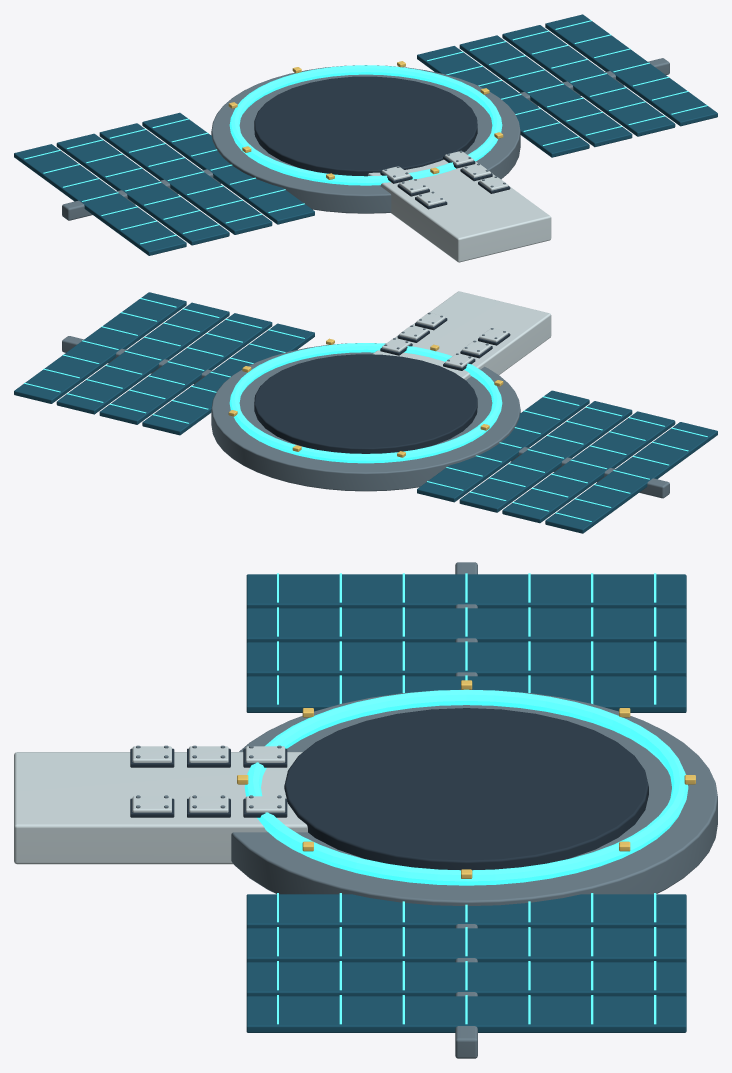
Rendered from OrbitalDock.fbx.
3 views of the same model, one above another, from view 1: azimuth 30°, elevation 25°; view 2: azimuth 150°, elevation 25°; view 3: azimuth 270°, elevation 25° (orthographic). The views are drawn at different scales.
Visible parts, largest first — view 1: Dock negative space, Docking collar, Access bridge, Solar panel.002, Solar panel.005, Solar panel.006, Solar panel.001, Solar panel.003, Solar panel.007, Dock approach ring, Solar panel, Solar panel.004 (+2 smaller); view 2: Dock negative space, Docking collar, Access bridge, Solar panel.005, Solar panel.001, Solar panel.003, Solar panel.006, Solar panel.002, Solar panel.007, Dock approach ring, Solar panel, Solar panel.004 (+2 smaller); view 3: Dock negative space, Access bridge, Docking collar, Solar panel.007, Dock approach ring, Solar panel.001, Solar panel.002, Solar panel.003, Solar panel.005, Solar panel.006, Solar panel.004, Solar panel (+1 smaller).
Boxes of the visible parts, bbox=[...] form: Dock negative space: bbox=[254, 76, 477, 176]; Docking collar: bbox=[211, 65, 520, 213]; Access bridge: bbox=[368, 159, 551, 262]; Solar panel.002: bbox=[56, 133, 229, 245]; Solar panel.005: bbox=[459, 35, 632, 147]; Solar panel.006: bbox=[502, 25, 675, 136]; Solar panel.001: bbox=[99, 123, 272, 234]; Solar panel.003: bbox=[14, 144, 186, 255]; Solar panel.007: bbox=[545, 14, 717, 126]; Dock approach ring: bbox=[229, 65, 502, 185]; Solar panel: bbox=[142, 112, 314, 224]; Solar panel.004: bbox=[417, 46, 589, 157]; Dock negative space: bbox=[254, 354, 477, 453]; Docking collar: bbox=[211, 343, 520, 491]; Access bridge: bbox=[372, 291, 551, 380]; Solar panel.005: bbox=[99, 313, 272, 424]; Solar panel.001: bbox=[459, 401, 632, 512]; Solar panel.003: bbox=[545, 422, 717, 533]; Solar panel.006: bbox=[56, 302, 229, 414]; Solar panel.002: bbox=[502, 411, 675, 523]; Solar panel.007: bbox=[14, 292, 186, 403]; Dock approach ring: bbox=[229, 343, 502, 463]; Solar panel: bbox=[417, 390, 589, 502]; Solar panel.004: bbox=[142, 323, 314, 435]; Dock negative space: bbox=[284, 708, 648, 870]; Access bridge: bbox=[14, 752, 307, 864]; Docking collar: bbox=[231, 689, 717, 905]; Solar panel.007: bbox=[246, 996, 686, 1032]; Dock approach ring: bbox=[244, 689, 688, 885]; Solar panel.001: bbox=[246, 642, 686, 677]; Solar panel.002: bbox=[246, 608, 686, 643]; Solar panel.003: bbox=[246, 574, 686, 609]; Solar panel.005: bbox=[246, 928, 686, 963]; Solar panel.006: bbox=[246, 962, 686, 997]; Solar panel.004: bbox=[246, 894, 686, 928]; Solar panel: bbox=[246, 676, 686, 712].
Size of the model in its own units: 900 by 45.6 by 560.
